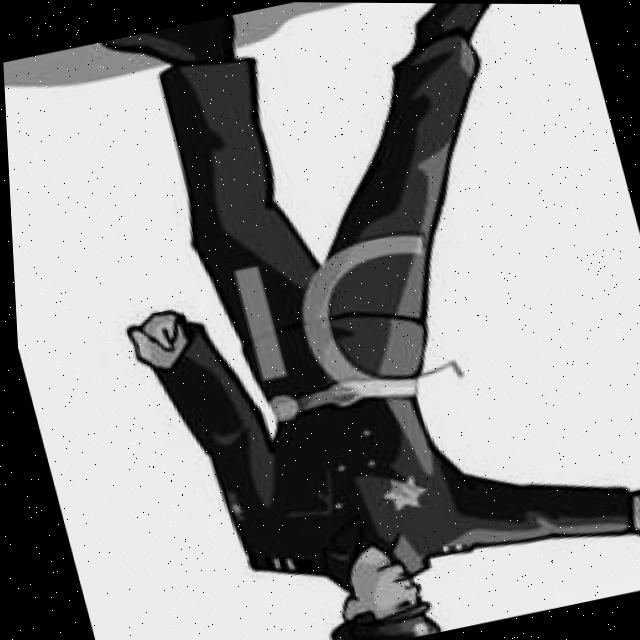pistol: (633, 502, 640, 555)
